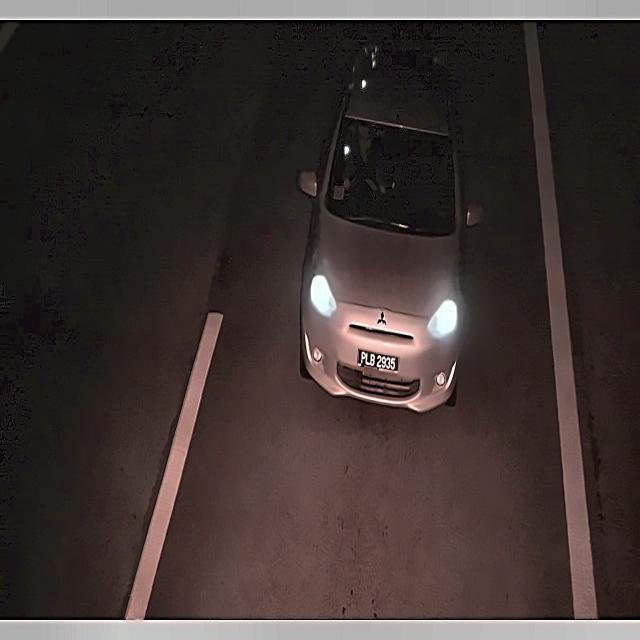car: (354, 339, 404, 378)
